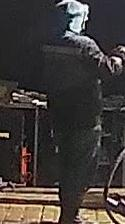vest: (41, 35, 105, 135)
